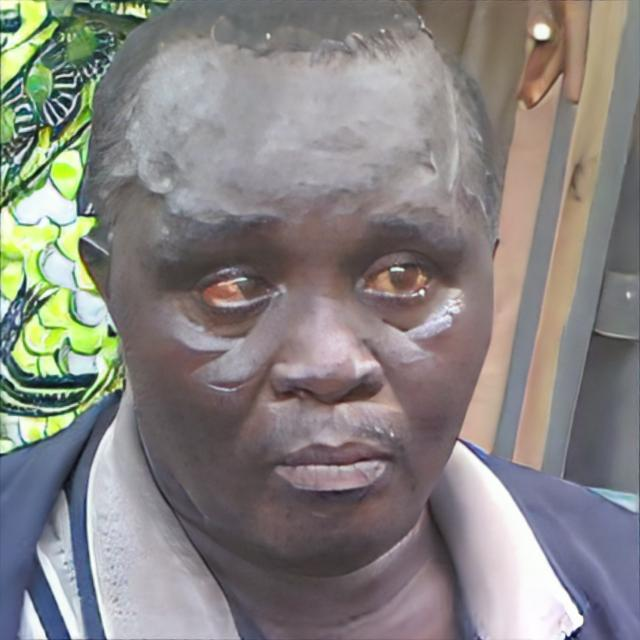sad: (113, 33, 494, 569)
